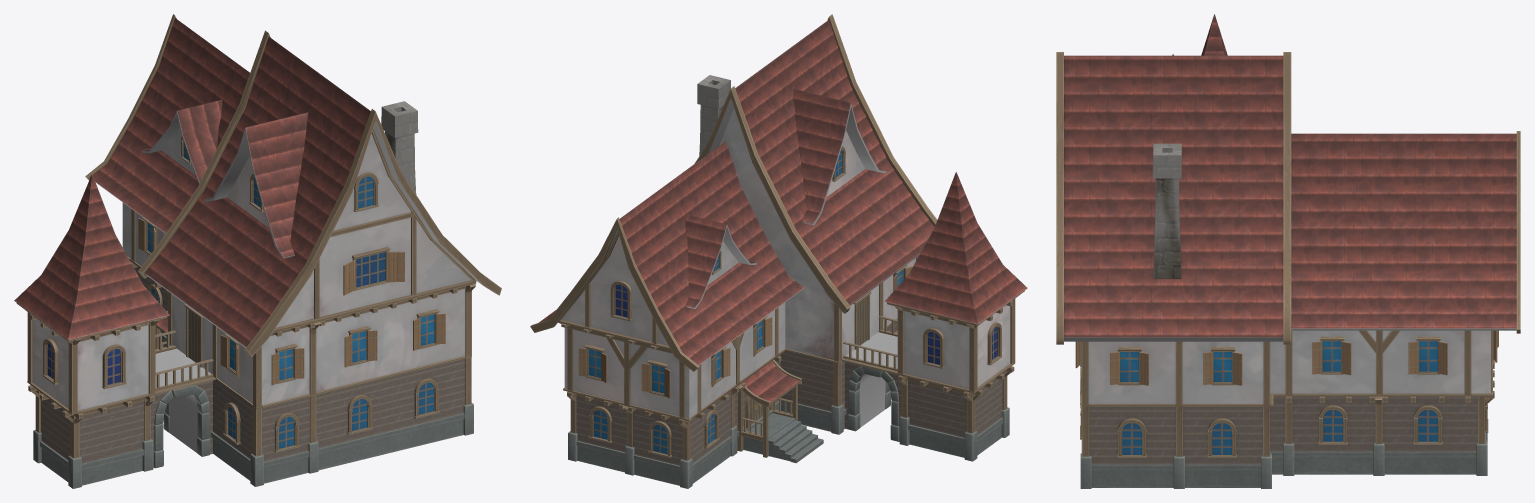
File: House4.glb
The picture shows the model from 3 angles, left to right: view 1: azimuth 30°, elevation 25°; view 2: azimuth 150°, elevation 25°; view 3: azimuth 270°, elevation 25°; orthographic projection. The views are drawn at different scales.
Visible parts, largest first — view 1: SM_House__0; view 2: SM_House__0; view 3: SM_House__0.
Part boxes in pixels (left/top/right/bottom): SM_House__0: left=14, top=14, right=501, bottom=488; SM_House__0: left=530, top=14, right=1027, bottom=488; SM_House__0: left=1056, top=14, right=1520, bottom=488.
Bounding box in the file's own units: 15.4 × 13.63 × 15.09.
Materials: 1 (1 with a texture image).
